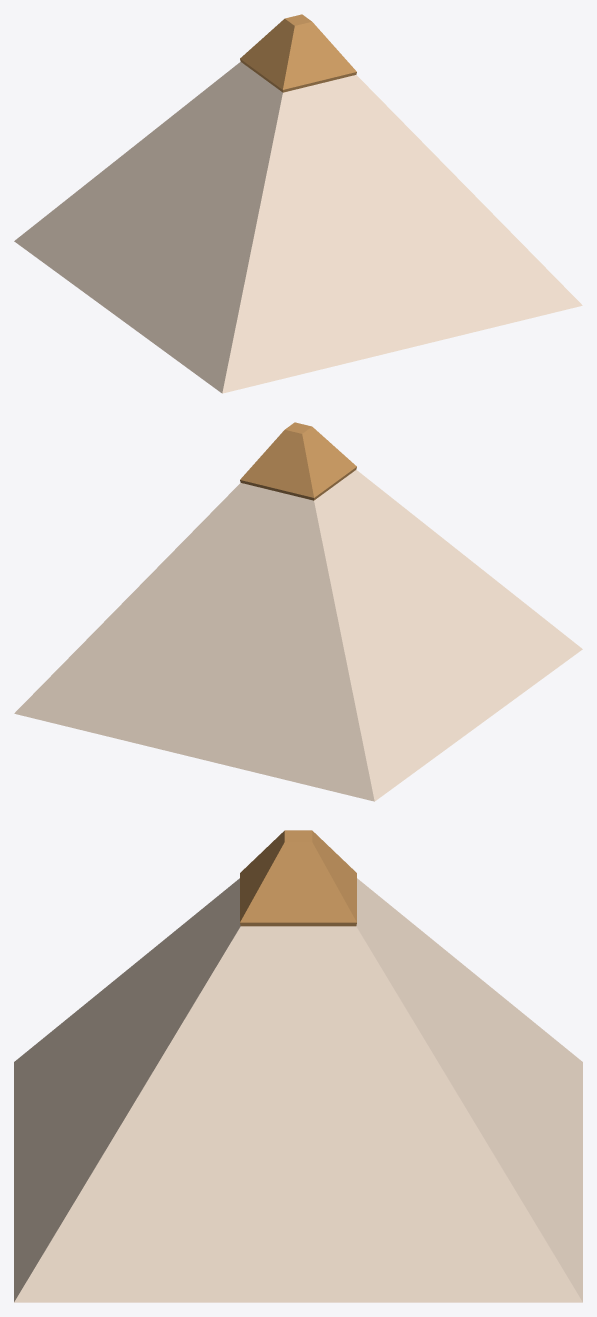
The model's file is egypt_pyramid-new.fbx.
3 views of the same model, one above another, from view 1: azimuth 30°, elevation 25°; view 2: azimuth 150°, elevation 25°; view 3: azimuth 270°, elevation 25° (orthographic). The views are drawn at different scales.
Visible parts, largest first — view 1: egypt_pyramid_new; view 2: egypt_pyramid_new; view 3: egypt_pyramid_new.
Boxes of the visible parts, bbox=[...] form: egypt_pyramid_new: bbox=[14, 14, 582, 393]; egypt_pyramid_new: bbox=[14, 422, 582, 801]; egypt_pyramid_new: bbox=[14, 830, 582, 1302].
Bounding box in the file's own units: 200 × 134 × 200.
